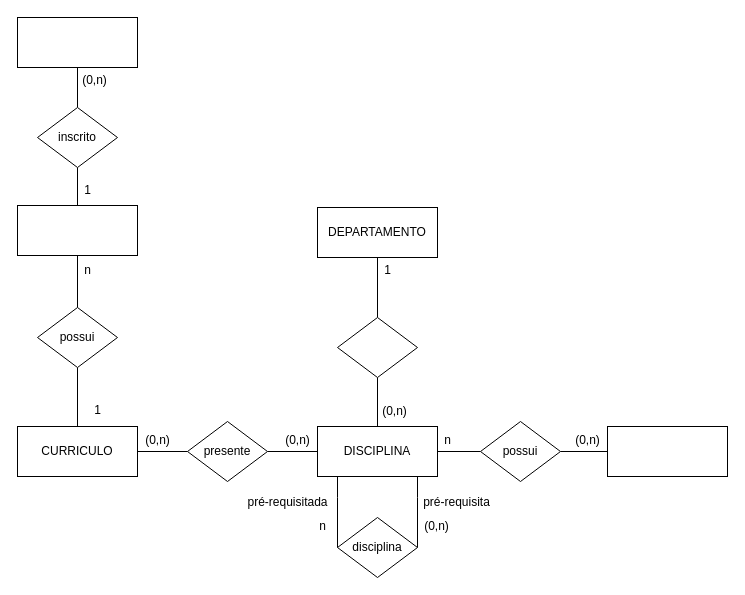
Image size: 745x595. Some labels were removed from this diagram. The centre of each missing label's shape, as x and y in pixels:
"ALUNO" belongs at [77,42].
"CURSO" belongs at [77,230].
"PRE-REQUISITO" belongs at [667,451].
"responsavel" belongs at [377,347].
